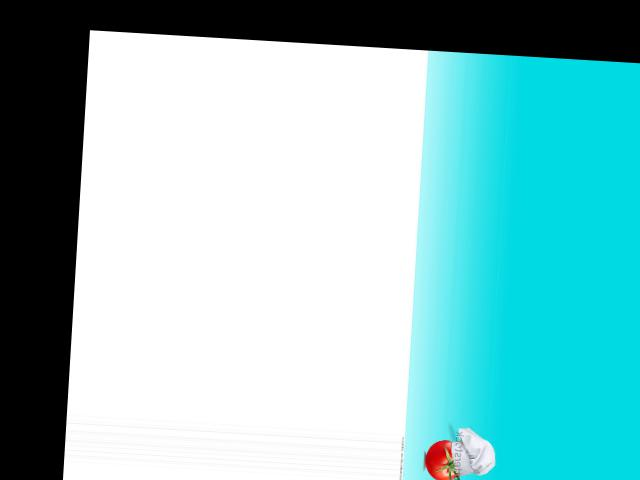tomato: (425, 439, 461, 480)
